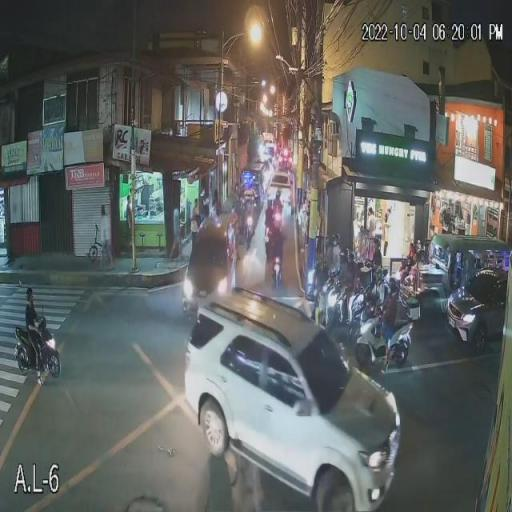helmet: (386, 277, 402, 300), (364, 238, 378, 255), (27, 291, 35, 308), (375, 269, 383, 286), (349, 251, 358, 264), (340, 250, 348, 263), (277, 208, 282, 216)
motorcycle: (355, 318, 418, 372), (13, 320, 62, 380), (321, 271, 350, 296), (273, 231, 285, 262)
rider: (25, 290, 41, 382), (385, 275, 400, 320), (350, 248, 359, 302), (363, 239, 374, 280), (340, 250, 349, 300), (374, 270, 385, 308), (276, 214, 282, 237)
